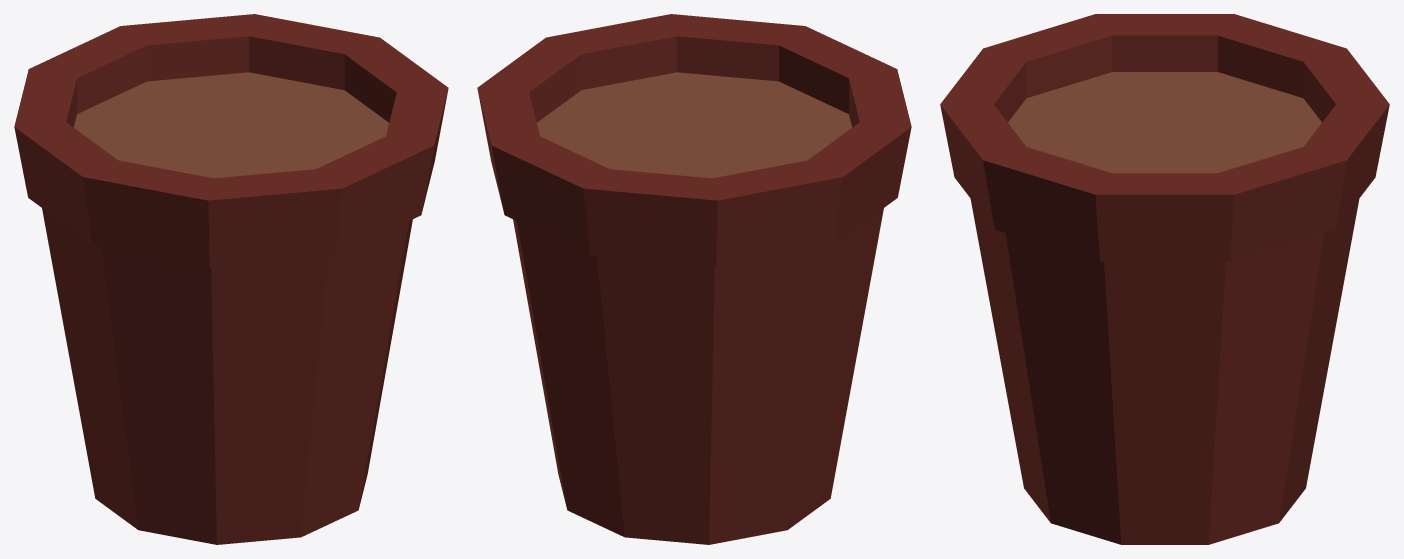
Rendered from Pot_1_vc.fbx.
The picture shows the model from 3 angles, left to right: view 1: azimuth 30°, elevation 25°; view 2: azimuth 150°, elevation 25°; view 3: azimuth 270°, elevation 25°; orthographic projection.
Parts seen in each view (by area): view 1: Pot_1_vc; view 2: Pot_1_vc; view 3: Pot_1_vc.
Boxes of the visible parts, bbox=[...] form: Pot_1_vc: bbox=[14, 14, 448, 544]; Pot_1_vc: bbox=[477, 14, 911, 544]; Pot_1_vc: bbox=[940, 14, 1389, 544].
Bounding box in the file's own units: 30.37 × 30.09 × 31.93.
